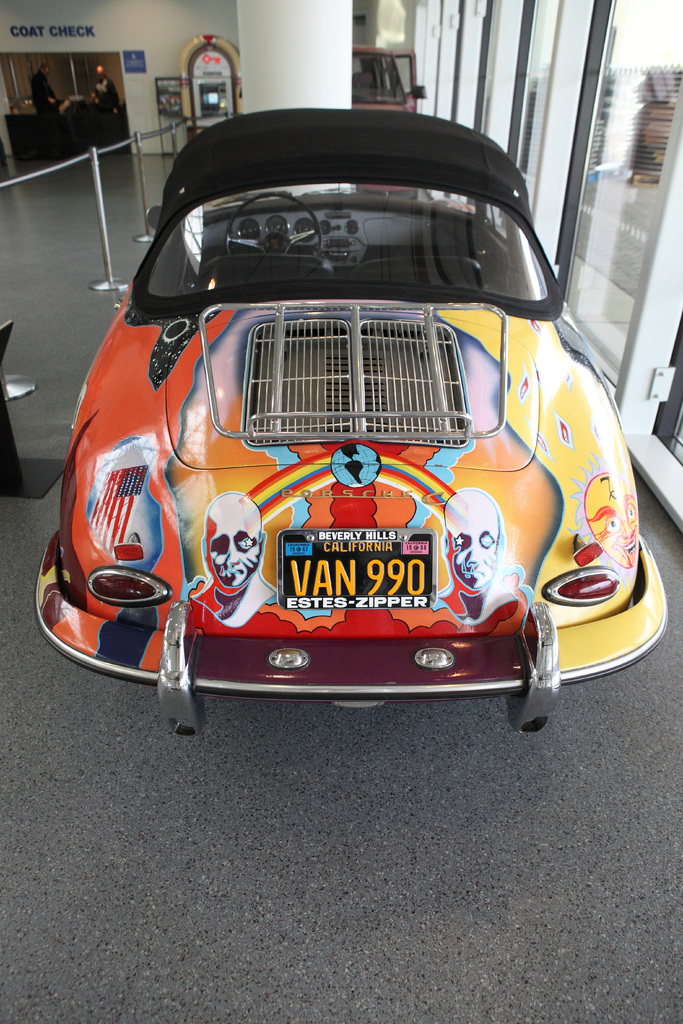Person: (32, 62, 65, 153), (86, 63, 121, 141)
